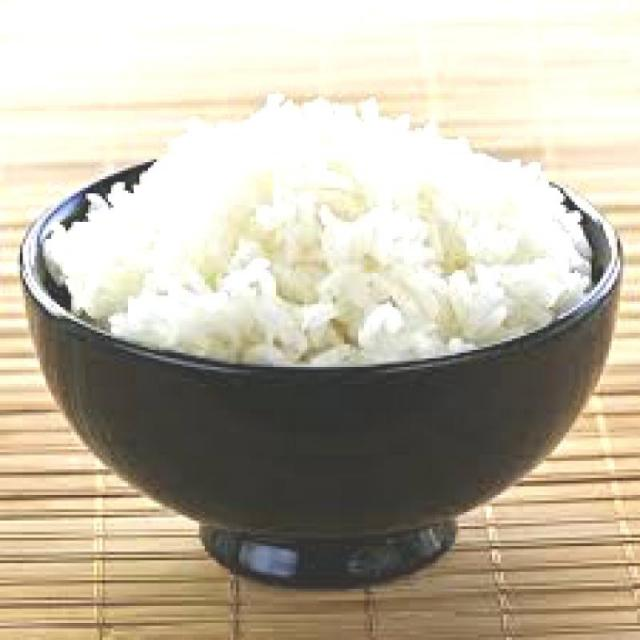Rice: (42, 91, 594, 368)
